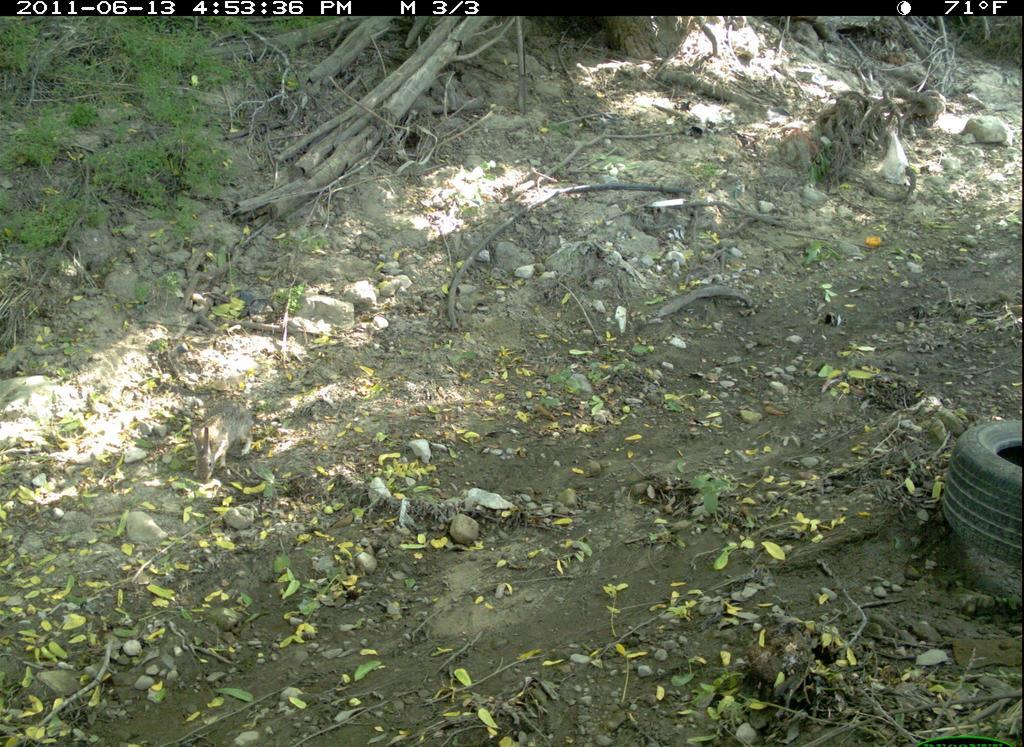rabbit: (184, 393, 281, 493)
